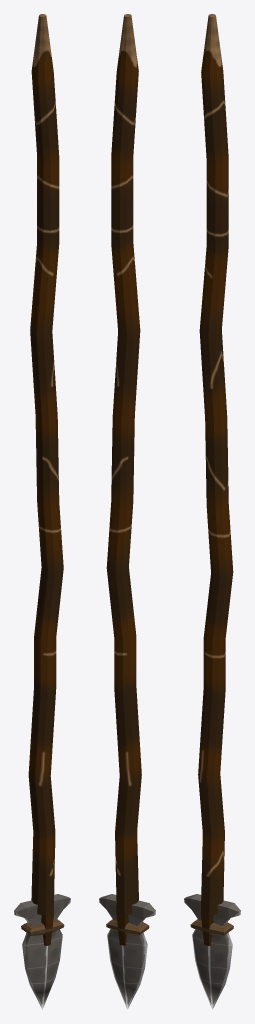
File: Stone Speer.FBX
3 views of the same model, side by side, from view 1: azimuth 30°, elevation 25°; view 2: azimuth 150°, elevation 25°; view 3: azimuth 330°, elevation 25° (orthographic).
Parts seen in each view (by area): view 1: Steenspeer001; view 2: Steenspeer001; view 3: Steenspeer001.
Boxes of the visible parts, box(x1,y1,x2,y2) form: Steenspeer001: box(14, 14, 70, 1009); Steenspeer001: box(99, 14, 155, 1009); Steenspeer001: box(184, 14, 240, 1009).
Size of the model in its own units: 22.17 by 385 by 10.25.
1 material, 1 textured.
